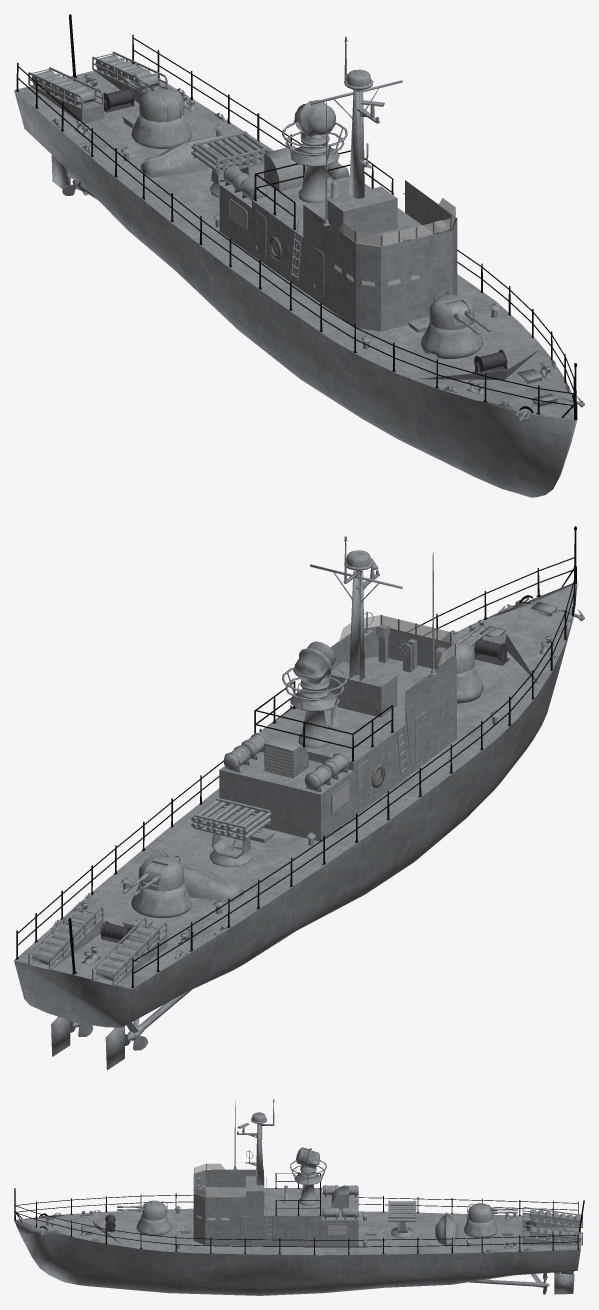
The model's file is ship2.obj.
3 renders of one model, top to bottom at view 1: azimuth 30°, elevation 25°; view 2: azimuth 150°, elevation 25°; view 3: azimuth 270°, elevation 25°, orthographic. The views are drawn at different scales.
Parts seen in each view (by area): view 1: cabin, Turret1_base_cabin.001, Turret2_base_cabin.002; view 2: cabin, Turret1_base_cabin.001; view 3: cabin, Turret2_base_cabin.002, Turret1_base_cabin.001.
Part boxes in pixels (x1,y1,x2,y2): cabin: (14,14,584,497); Turret1_base_cabin.001: (139,86,184,122); Turret2_base_cabin.002: (429,291,474,330); cabin: (14,526,584,1070); Turret1_base_cabin.001: (138,852,184,891); cabin: (14,1099,584,1295); Turret2_base_cabin.002: (141,1200,167,1220); Turret1_base_cabin.001: (467,1203,493,1223).
Size of the model in its own units: 57.2 by 112 by 307.
10 materials, 5 textured.
